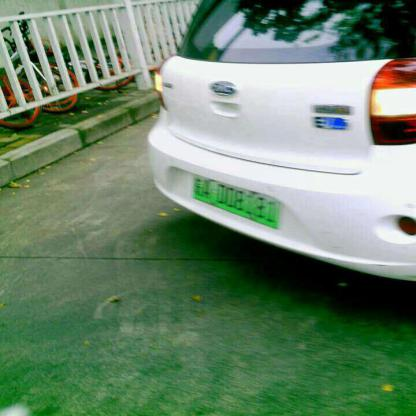lp: (192, 174, 280, 230)
